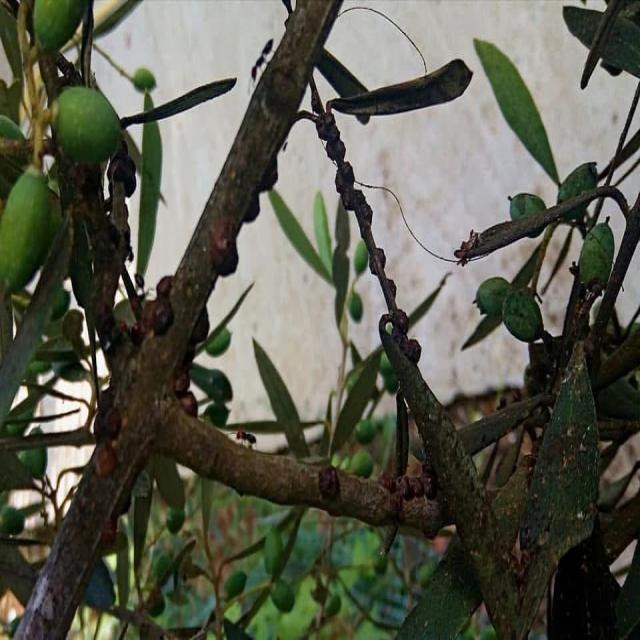BlackScale: (314, 110, 421, 368), (97, 275, 174, 359), (174, 300, 209, 414), (91, 382, 122, 473), (240, 151, 277, 227), (378, 464, 437, 508), (105, 140, 136, 210), (215, 230, 238, 278), (318, 464, 341, 506)
